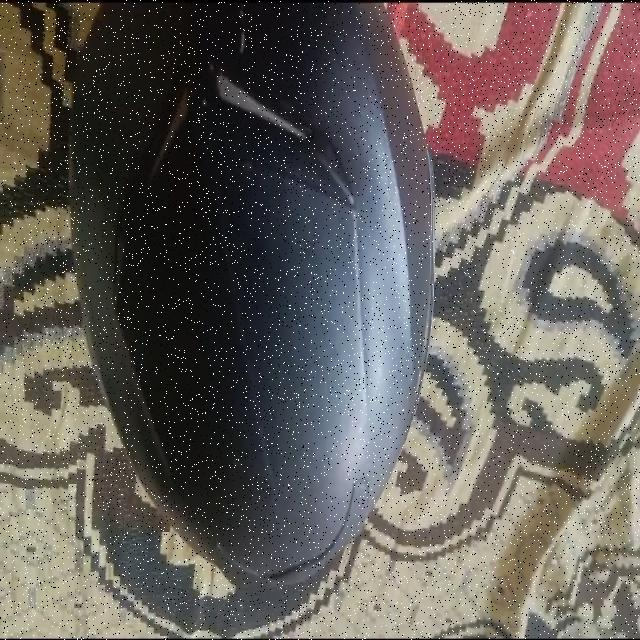Helmet: (69, 3, 435, 592)
